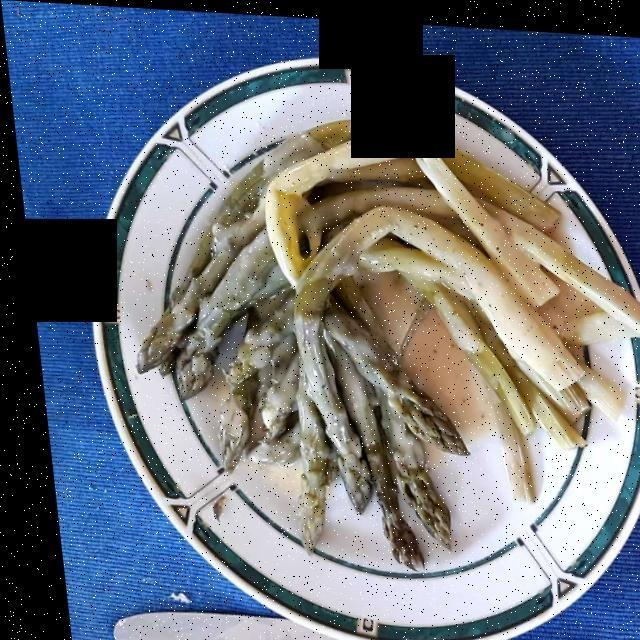water: (298, 150, 544, 410)
